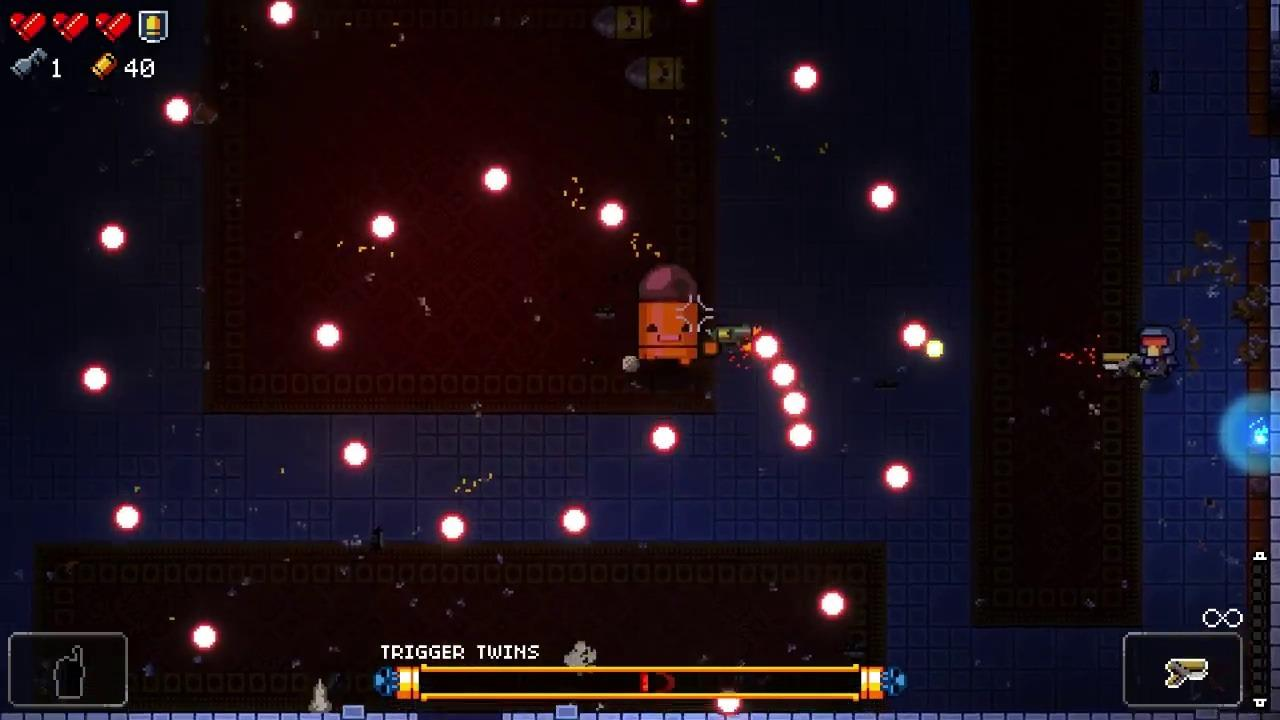boss_smiley: (637, 264, 698, 365)
bullet: (598, 197, 629, 231), (790, 61, 820, 96), (648, 422, 680, 454), (817, 589, 849, 621), (559, 505, 589, 538), (867, 182, 897, 215), (882, 463, 914, 492), (899, 319, 928, 350), (781, 388, 809, 420), (754, 332, 782, 364), (164, 96, 193, 126), (267, 0, 297, 29), (367, 213, 397, 242), (80, 365, 110, 394), (189, 623, 218, 653), (769, 362, 799, 391), (482, 166, 511, 196), (98, 223, 126, 254), (114, 504, 143, 533), (341, 440, 369, 470), (438, 514, 468, 542), (315, 323, 342, 354), (789, 422, 816, 453), (716, 698, 741, 716)
dead_bullet_kin: (625, 56, 685, 92), (595, 3, 653, 39)
player: (1137, 327, 1178, 380)
